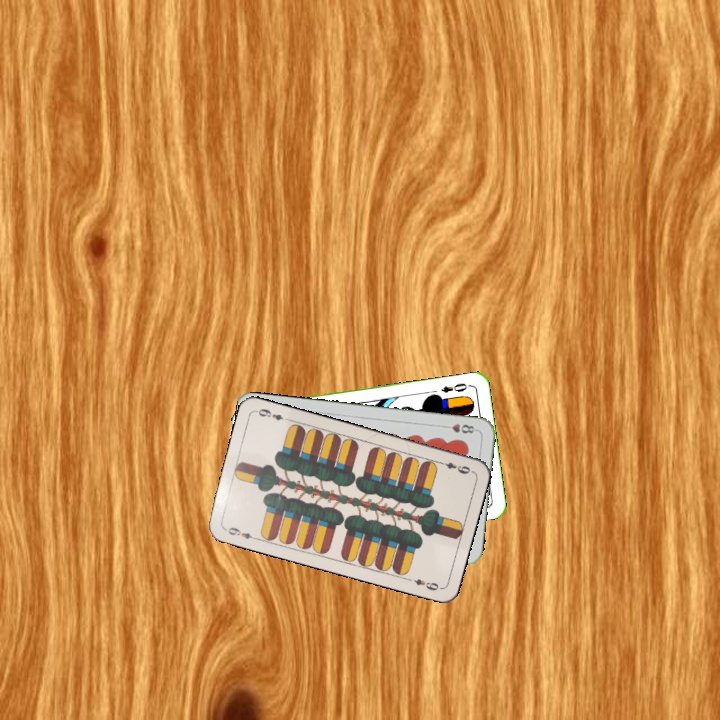E9: (435, 457, 475, 477), (221, 523, 260, 543)
EO: (437, 379, 473, 395)
H8: (439, 420, 480, 436)
